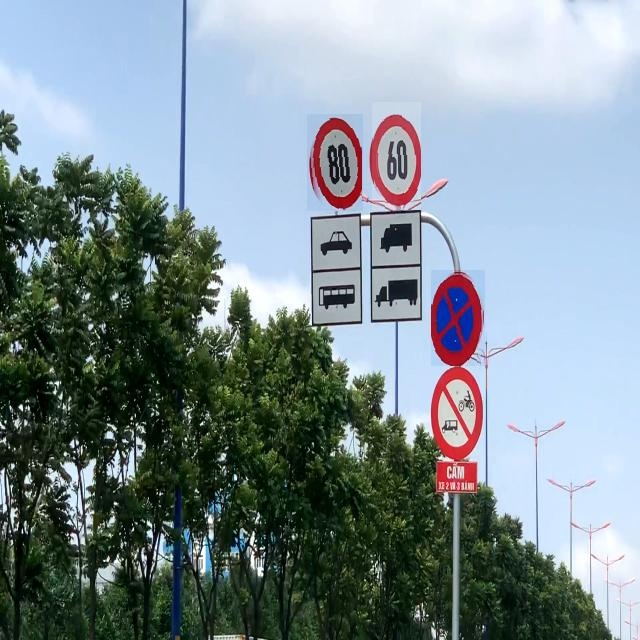bien_cam: (307, 114, 363, 211), (372, 102, 421, 210), (431, 270, 485, 366)
